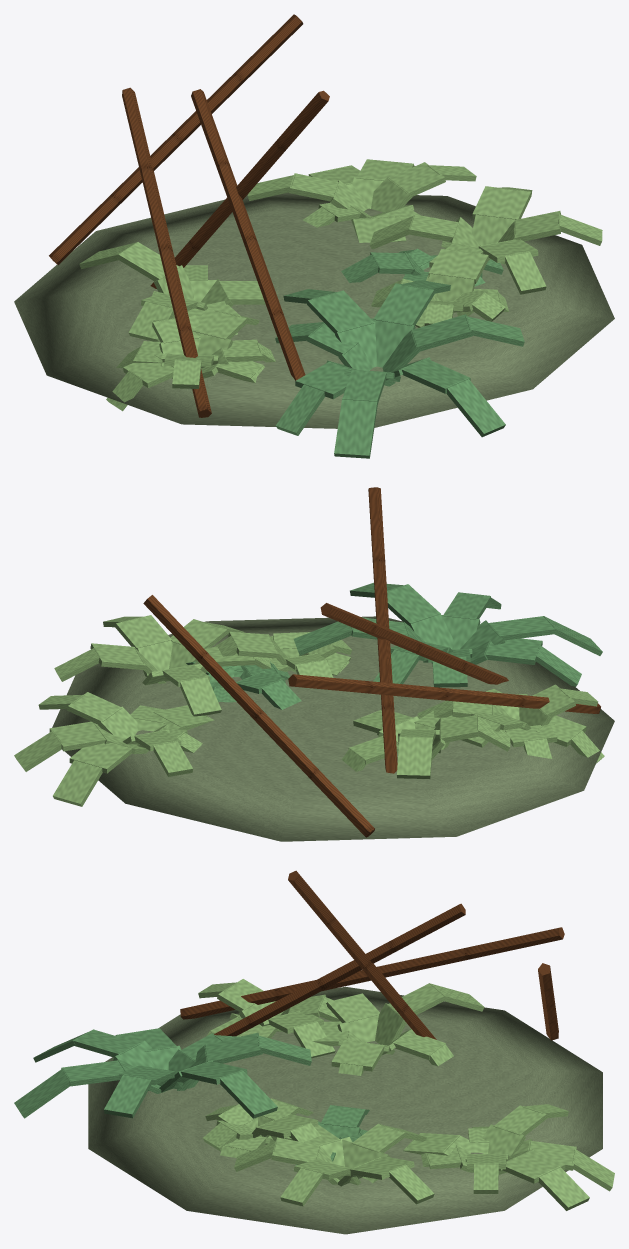
File: shrub.glb
3 renders of one model, top to bottom at view 1: azimuth 30°, elevation 25°; view 2: azimuth 150°, elevation 25°; view 3: azimuth 270°, elevation 25°, orthographic. The views are drawn at different scales.
Visible parts, largest first — view 1: undergrowth-patch; view 2: undergrowth-patch; view 3: undergrowth-patch.
Boxes of the visible parts, x1,y1,x2,y2 form: undergrowth-patch: (14,14,614,458); undergrowth-patch: (14,487,614,841); undergrowth-patch: (14,870,614,1234).
Bounding box in the file's own units: 2.6 × 1.23 × 2.67.
Materials: 4 (4 with a texture image).
